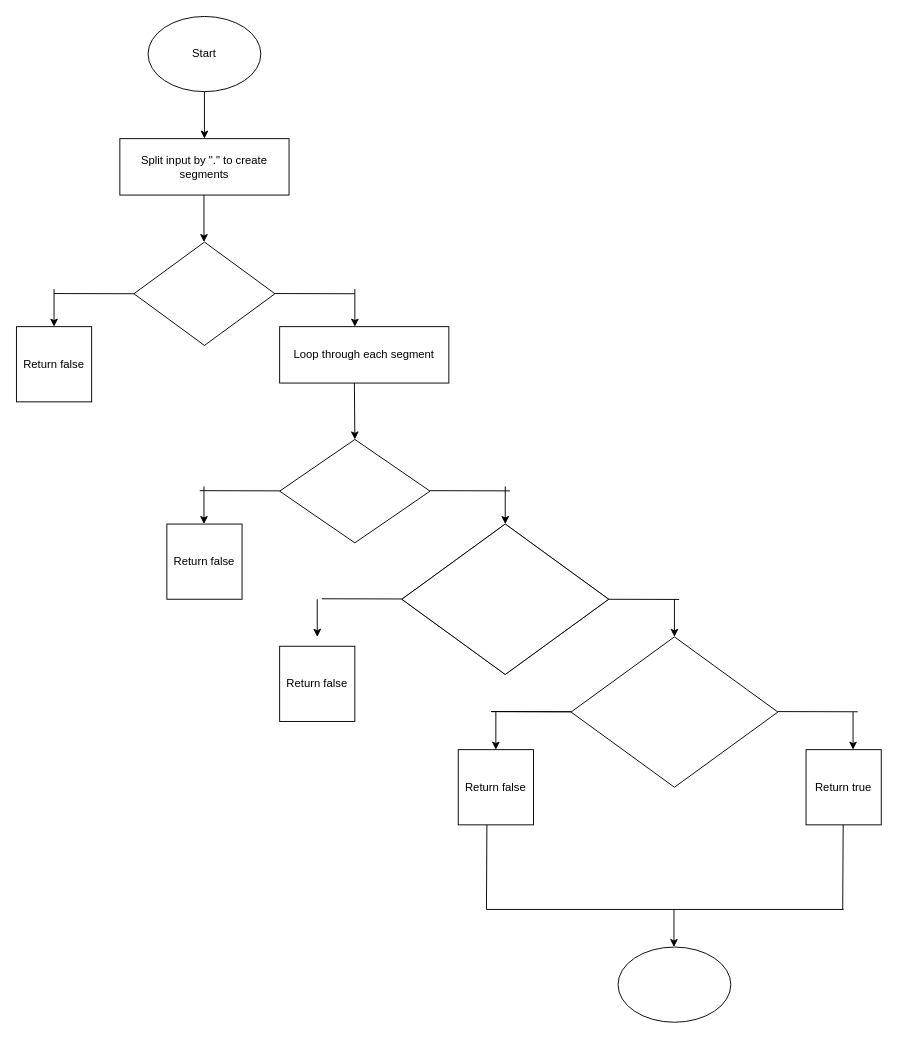
This 898x1039 diagram has some shape labels left out. The centre of each missing label's shape, as x and y in pixels:
Are there exactly 4 segments?: pixel 204 293
Check if each segment i s a number and between 0 and 255: pixel 674 711
Does segment start with "0" and length > 1?: pixel 505 598
End: pixel 674 984
Is segment empty?: pixel 354 491
